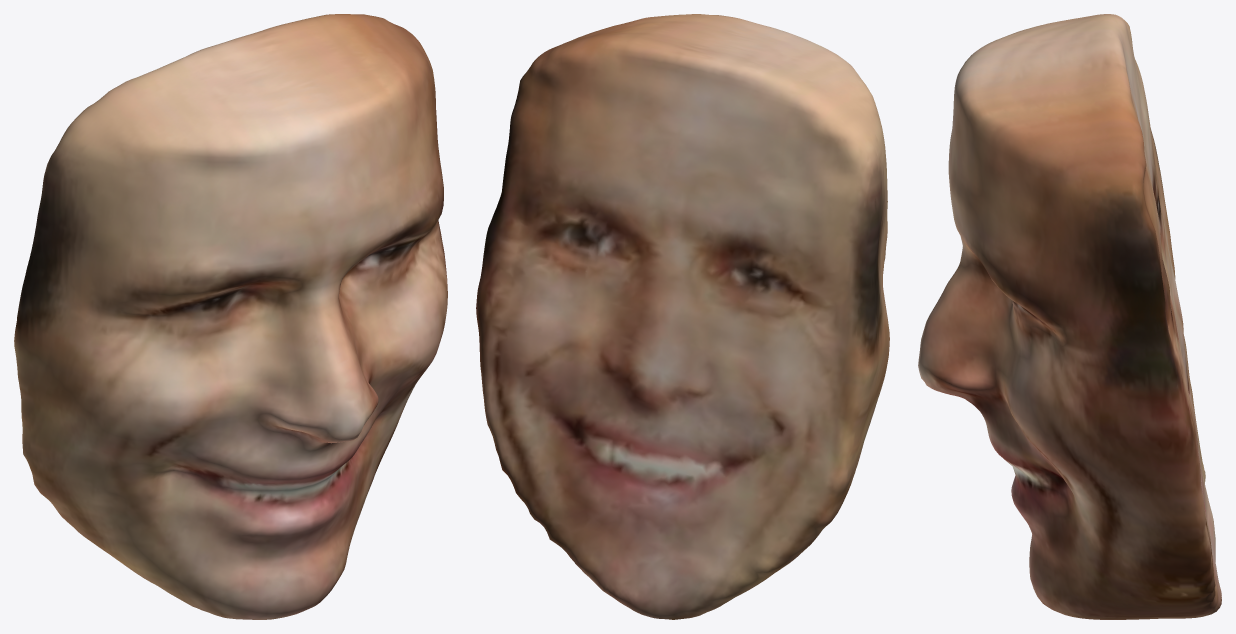
3 renders of one model, left to right at view 1: azimuth 30°, elevation 25°; view 2: azimuth 150°, elevation 25°; view 3: azimuth 270°, elevation 25°, orthographic. The views are drawn at different scales.
Parts seen in each view (by area): view 1: Andrew_Face:Mesh-retopo 1_Andrew_Face1_0; view 2: Andrew_Face:Mesh-retopo 1_Andrew_Face1_0; view 3: Andrew_Face:Mesh-retopo 1_Andrew_Face1_0.
Part boxes in pixels (x1,y1,x2,y2): Andrew_Face:Mesh-retopo 1_Andrew_Face1_0: (14,14,447,619); Andrew_Face:Mesh-retopo 1_Andrew_Face1_0: (476,14,889,619); Andrew_Face:Mesh-retopo 1_Andrew_Face1_0: (918,14,1221,619).
Bounding box in the file's own units: 89.95 × 119 × 59.29.
1 material, 1 textured.
